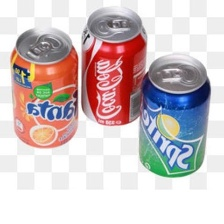can: (137, 50, 213, 180), (6, 24, 81, 150), (80, 3, 148, 128)
